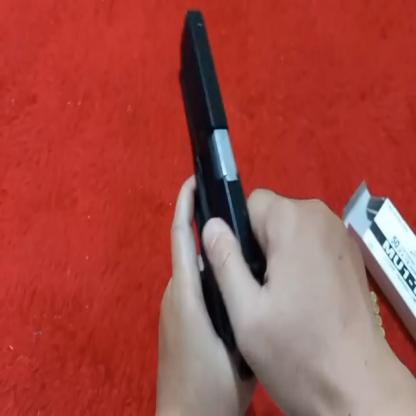handgun: (173, 0, 262, 367)
